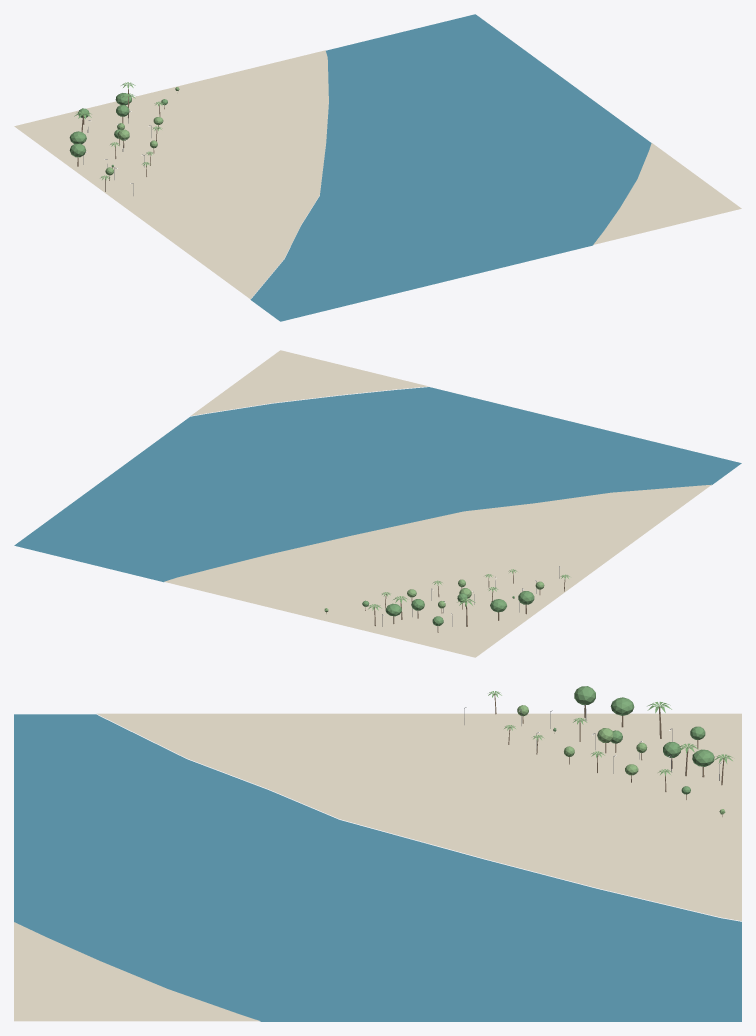
File: nature_2_6.glb
3 views of the same model, one above another, from view 1: azimuth 30°, elevation 25°; view 2: azimuth 150°, elevation 25°; view 3: azimuth 270°, elevation 25° (orthographic). The views are drawn at different scales.
Visible parts, largest first — view 1: water, ground, foliage_a; view 2: water, ground, foliage_a; view 3: water, ground, foliage_a, foliage_b, palm_leaf, trunk.
Part boxes in pixels (x1,y1,x2,y2): water: [250, 14, 651, 321]; ground: [14, 50, 741, 299]; foliage_a: [69, 93, 167, 167]; water: [14, 387, 741, 582]; ground: [164, 350, 711, 657]; foliage_a: [362, 591, 534, 625]; water: [14, 714, 741, 1021]; ground: [14, 713, 741, 1021]; foliage_a: [553, 686, 714, 794]; foliage_b: [517, 705, 725, 814]; palm_leaf: [488, 691, 732, 775]; trunk: [494, 694, 724, 816].
Bounding box in the file's own units: 252 × 13.51 × 250.
